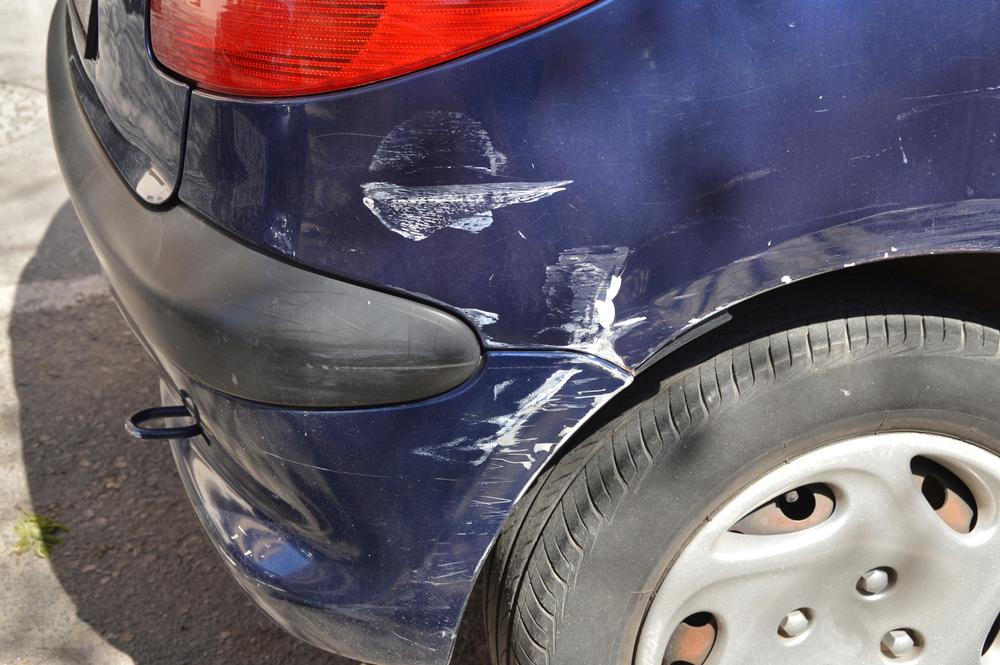dent: (534, 0, 851, 335)
scratch: (420, 365, 616, 590), (450, 242, 653, 376), (363, 107, 558, 242), (778, 199, 1000, 284)
